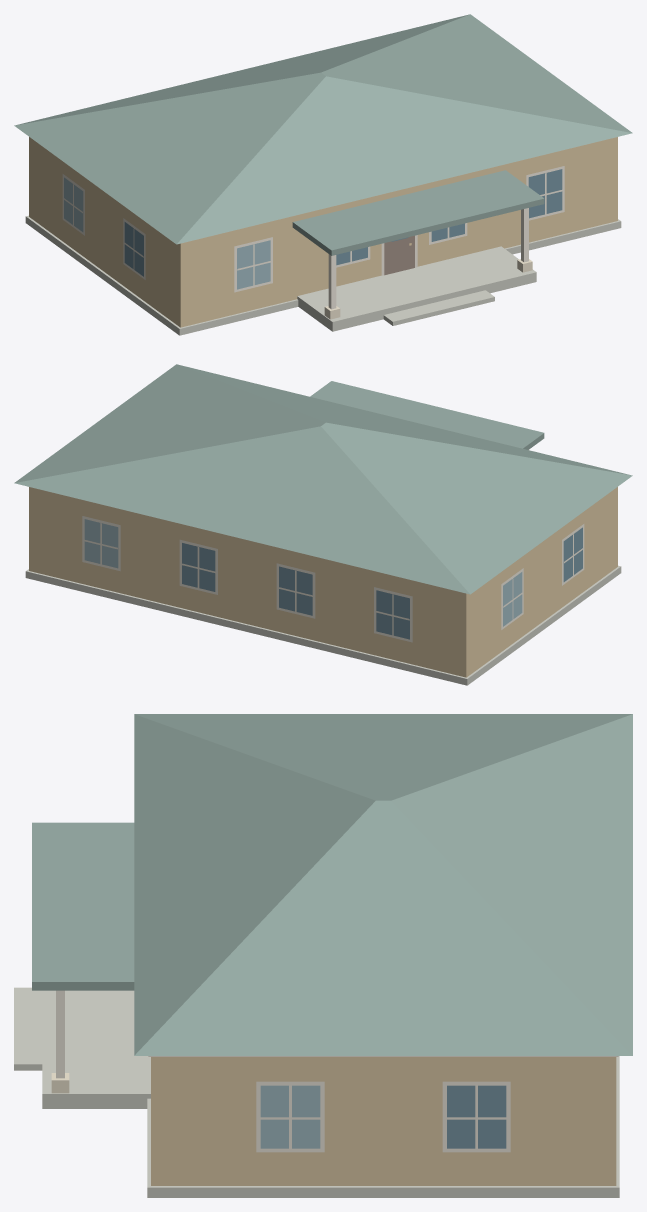
File: house-ranch-ochre.glb
3 views of the same model, one above another, from view 1: azimuth 30°, elevation 25°; view 2: azimuth 150°, elevation 25°; view 3: azimuth 270°, elevation 25° (orthographic). The views are drawn at different scales.
Parts seen in each view (by area): view 1: house-ranch-ochre; view 2: house-ranch-ochre; view 3: house-ranch-ochre.
Boxes of the visible parts, box(x1,y1,x2,y2) form: house-ranch-ochre: box(14, 14, 632, 335); house-ranch-ochre: box(14, 364, 632, 685); house-ranch-ochre: box(14, 714, 632, 1197).
Size of the model in its own units: 15.65 by 4.95 by 11.98.
